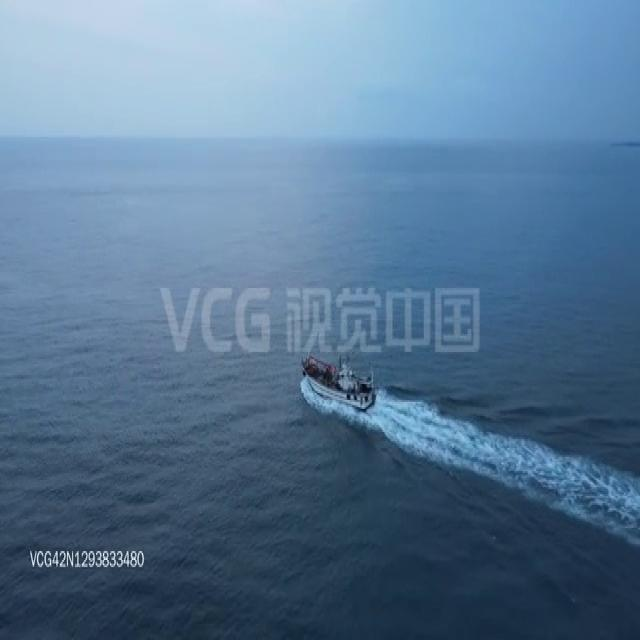houseboat: (299, 346, 374, 414)
